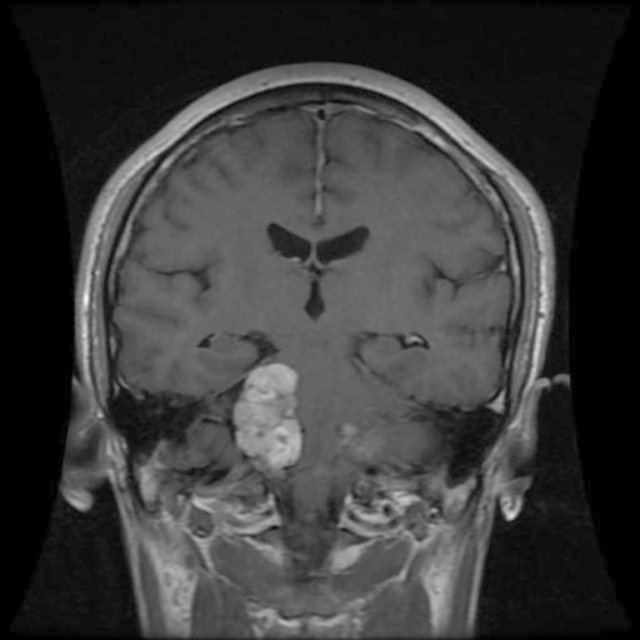meningioma tumor: (215, 360, 314, 490)
